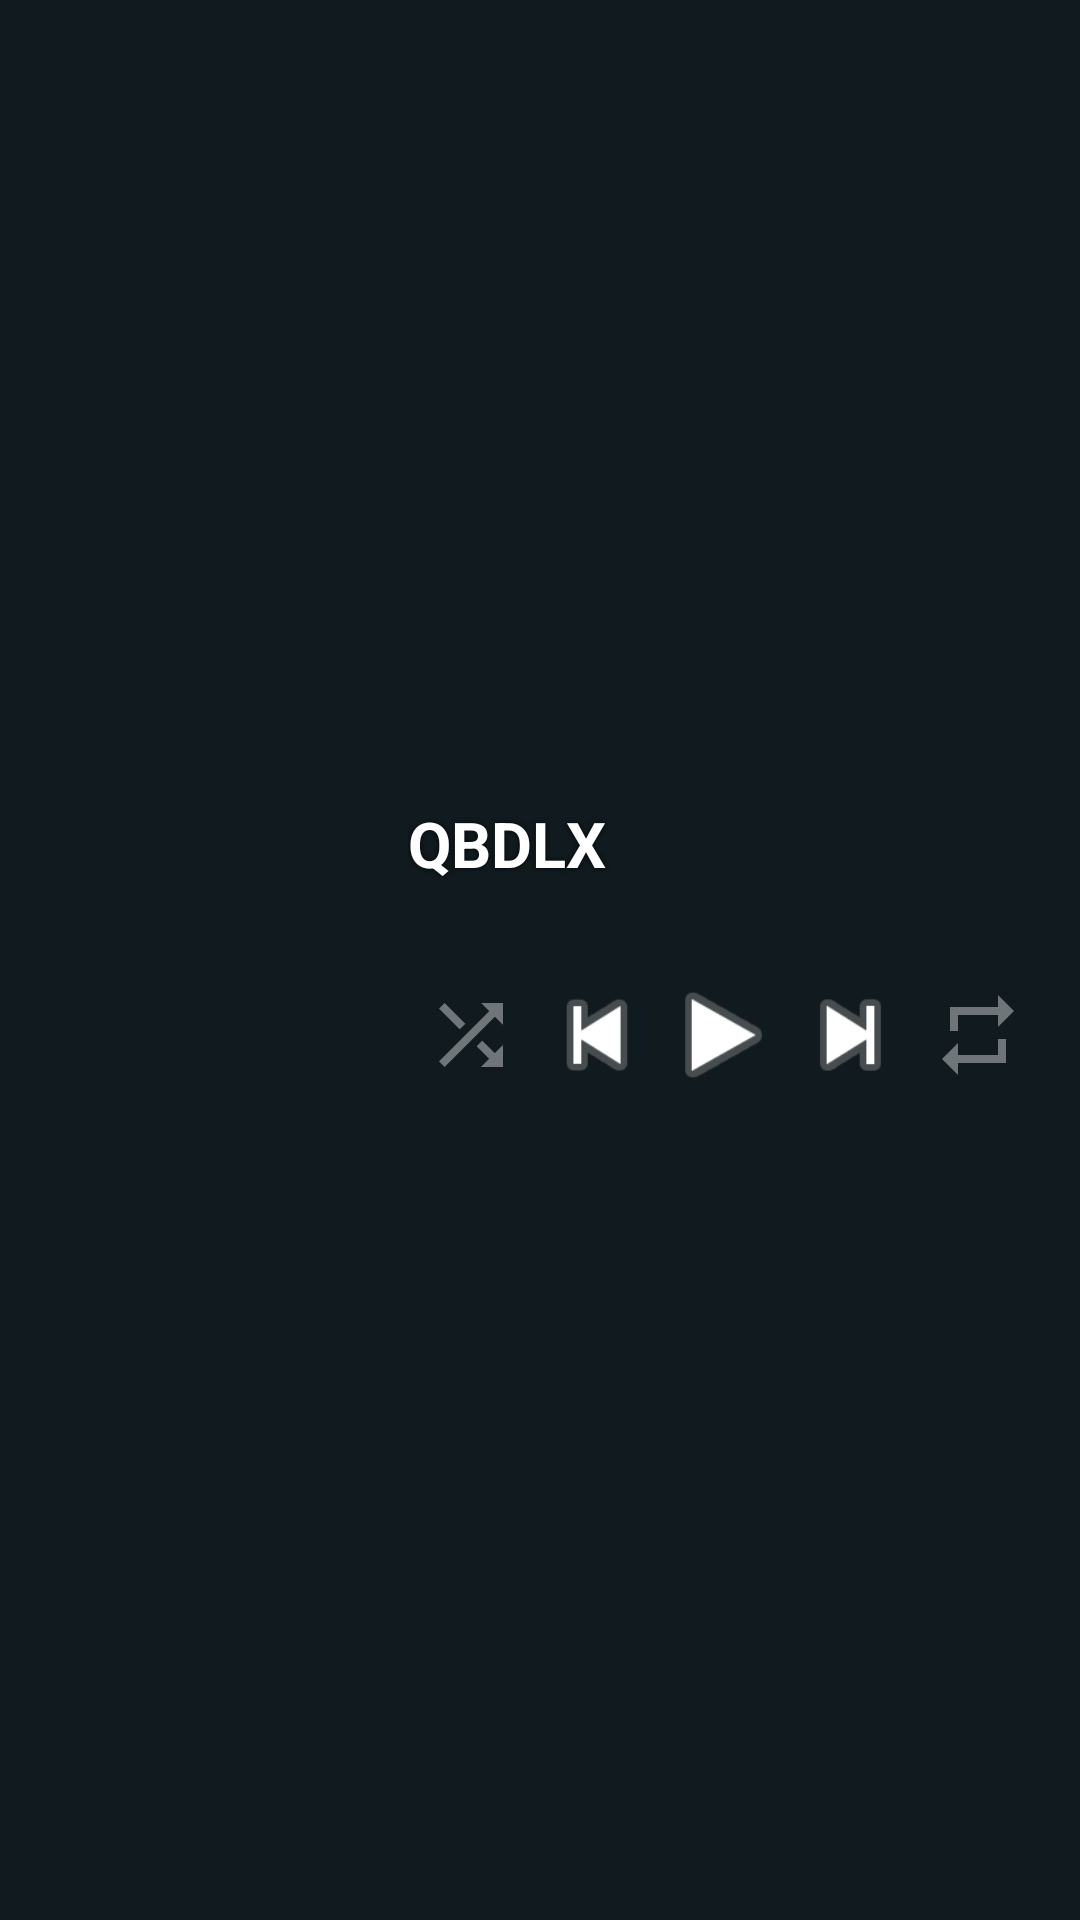

Icons on this 1080×1920 Android screen, each with the point to tap as (x,y):
Next: (850,1035)
Play / pause: (723,1035)
Previous: (597,1035)
Repeat: (978,1035)
Shuffle: (471,1035)
